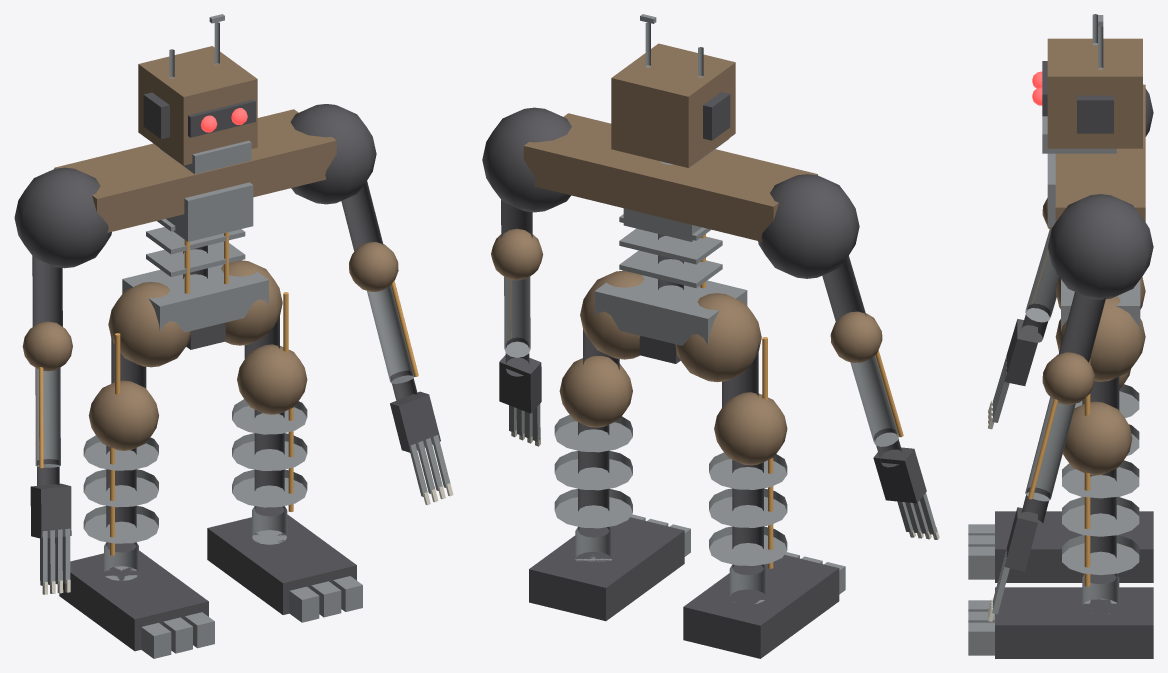
Rendered from statue.glb.
3 views of the same model, side by side, from view 1: azimuth 30°, elevation 25°; view 2: azimuth 150°, elevation 25°; view 3: azimuth 270°, elevation 25° (orthographic). The views are drawn at different scales.
Parts seen in each view (by area): view 1: Statue; view 2: Statue; view 3: Statue.
Part boxes in pixels (<box>): Statue: <box>14,14,453,658</box>; Statue: <box>482,14,939,658</box>; Statue: <box>968,14,1153,658</box>.
Size of the model in its own units: 1.88 by 2.48 by 0.7.
